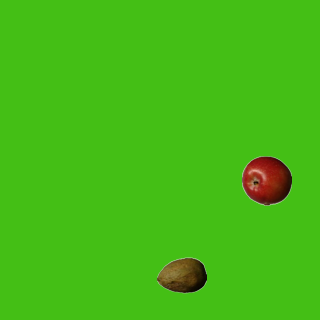Apple Braeburn: (241, 155, 291, 205)
Papaya: (156, 250, 206, 300)
